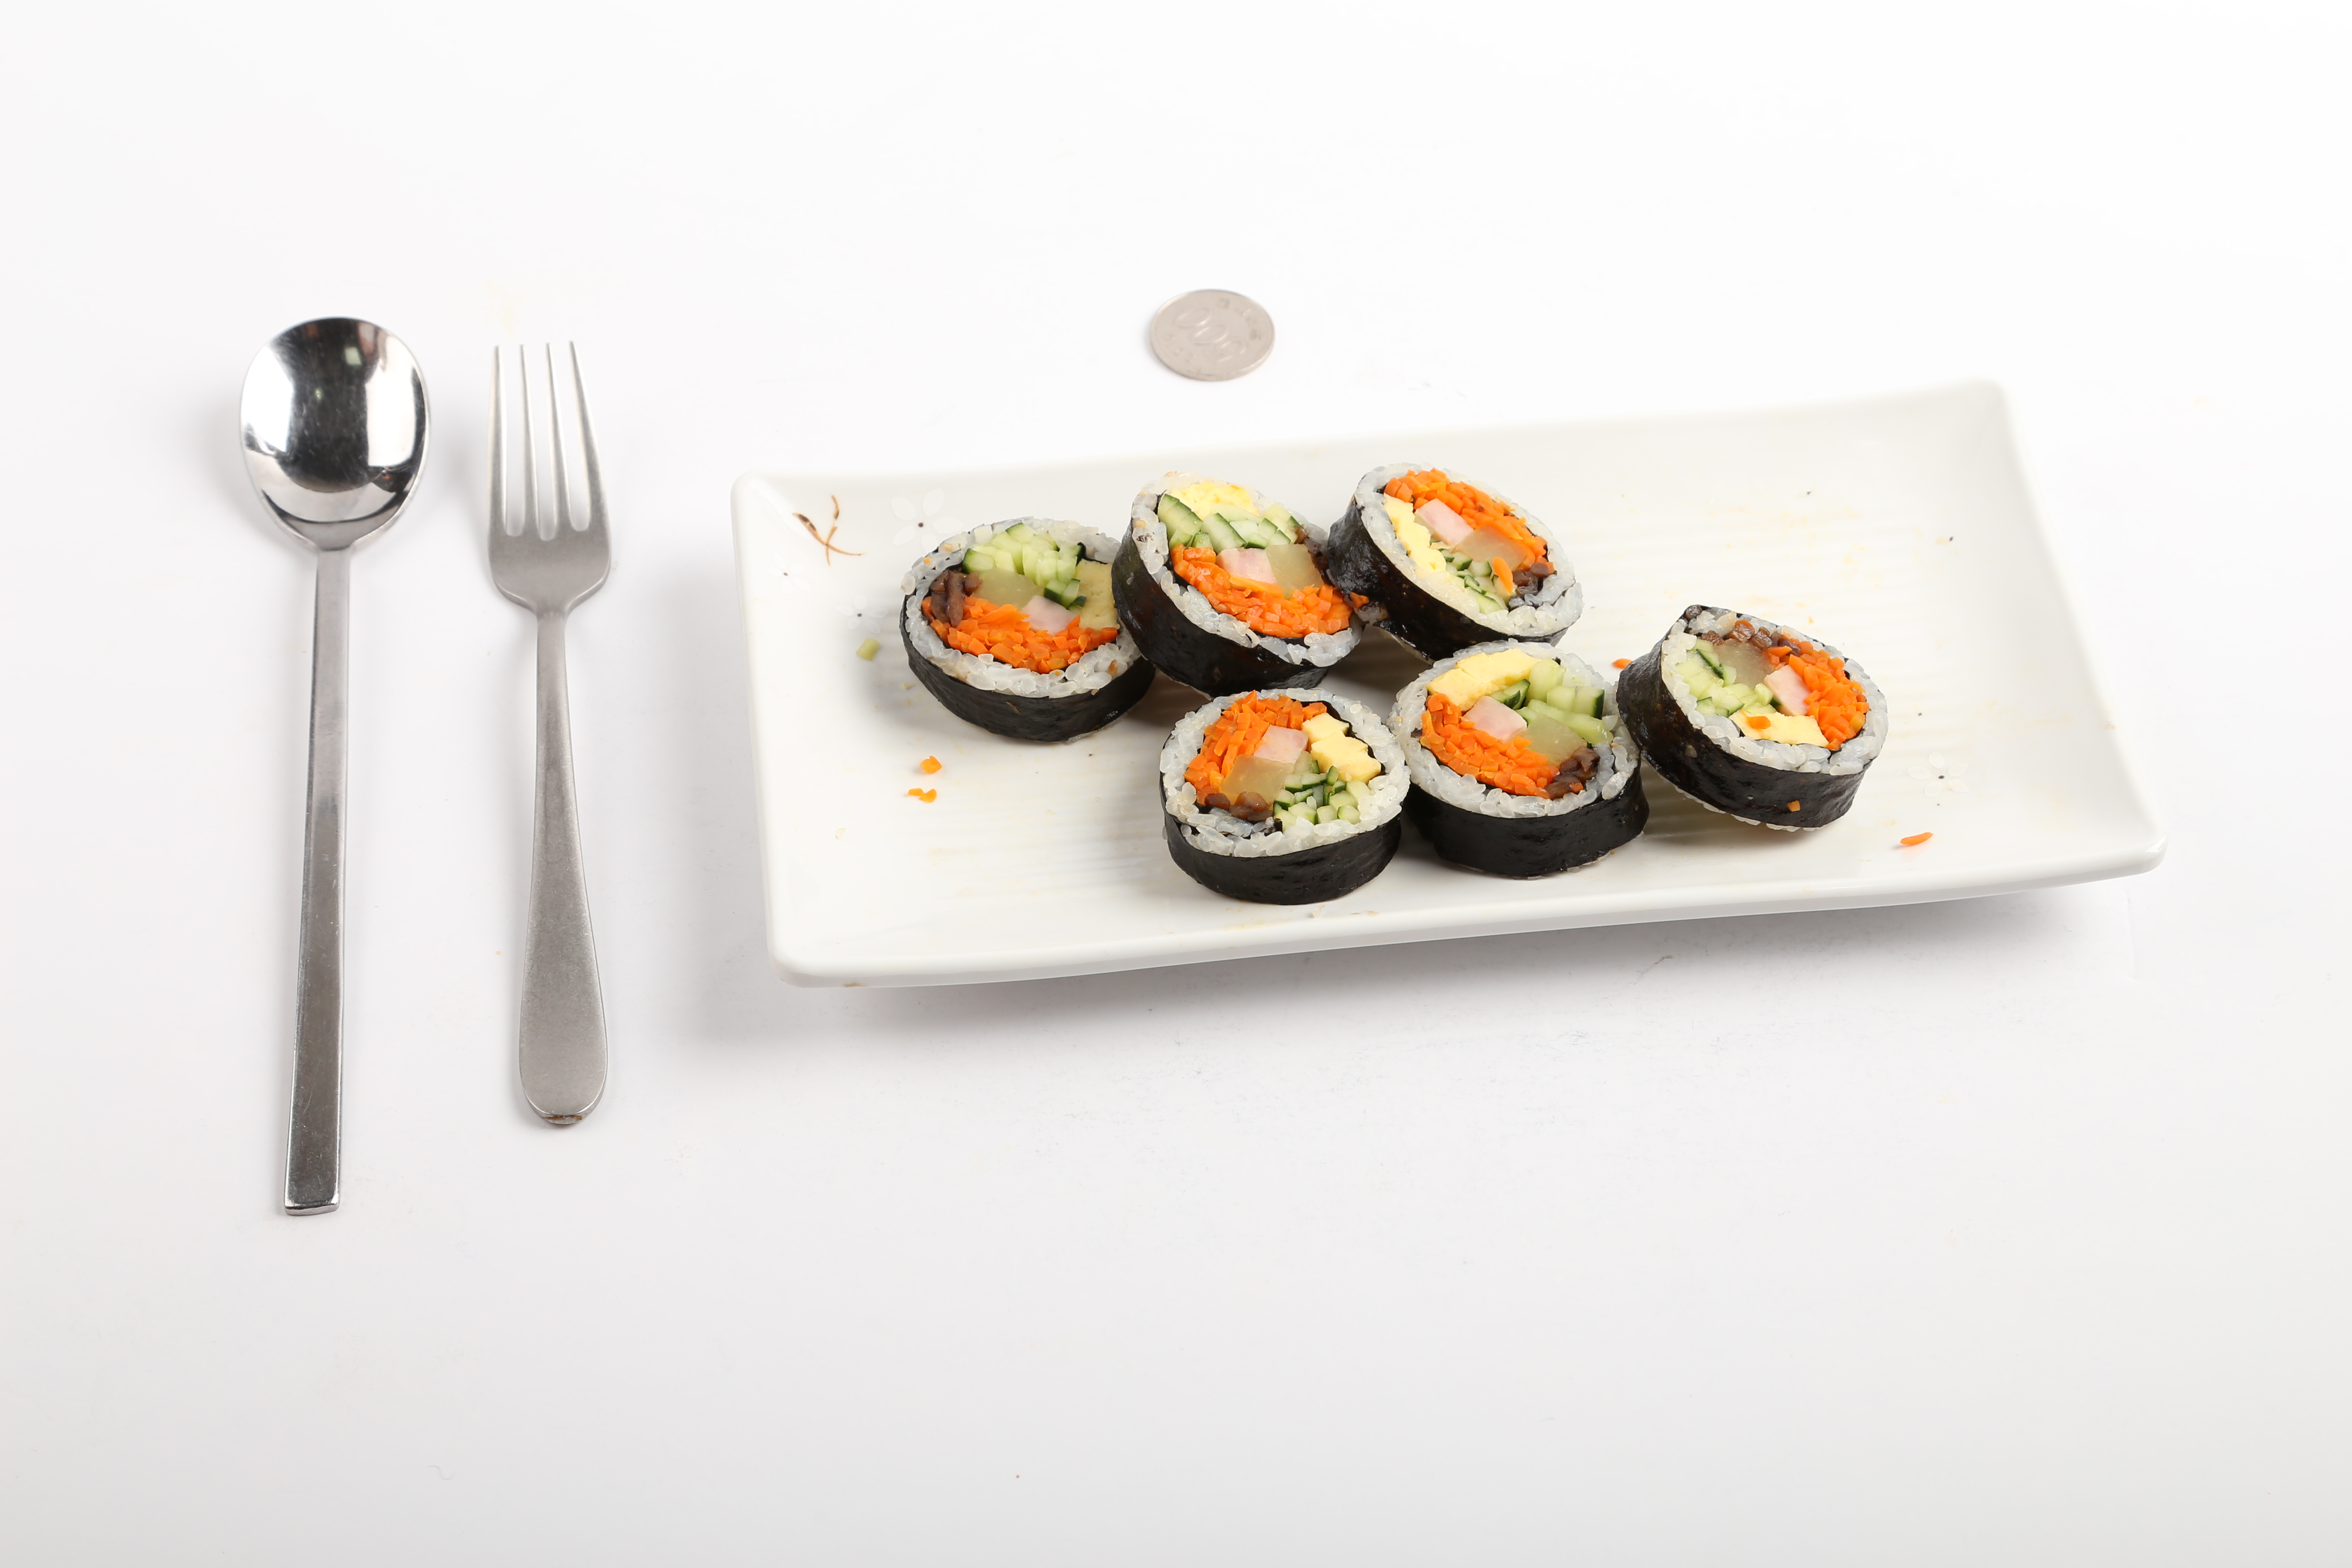dish: (735, 371, 2165, 983)
ref_coin: (1141, 273, 1284, 390)
ref_fork: (485, 339, 612, 689)
ref_spoon: (233, 311, 429, 646)
김밥: (896, 455, 1892, 905)
